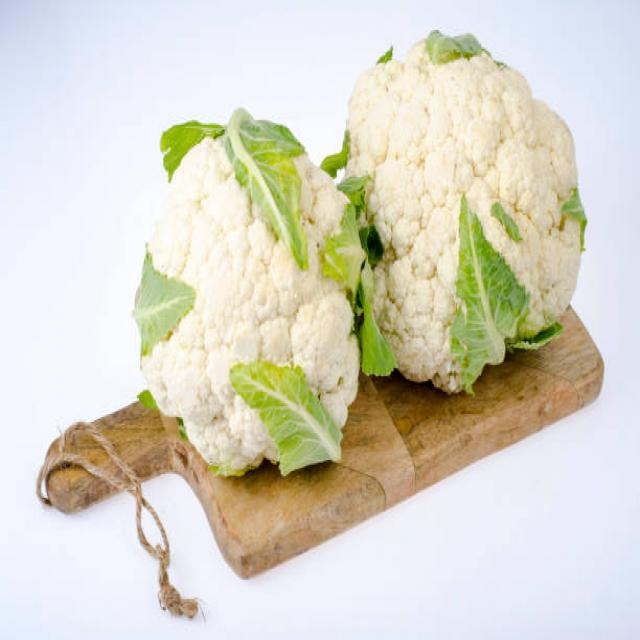Cauliflower head: (345, 31, 593, 432), (119, 103, 368, 500)
